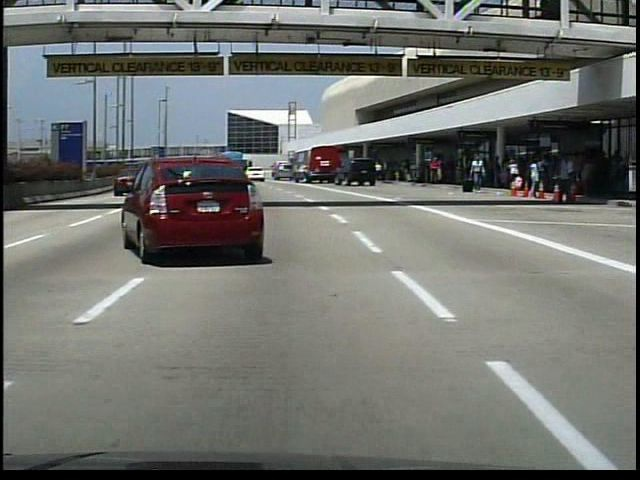person: (552, 154, 573, 206), (469, 155, 488, 194), (428, 155, 443, 184), (373, 161, 385, 181)
